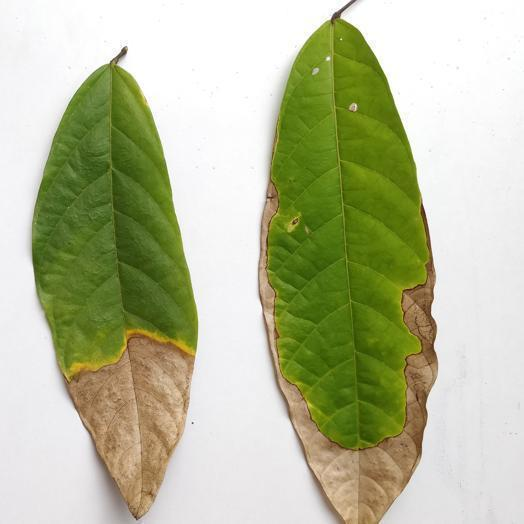Potassium: (260, 0, 436, 523), (33, 53, 197, 516)
